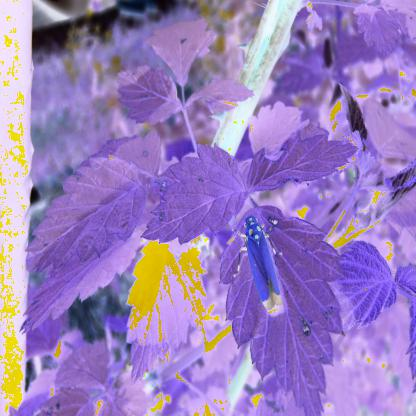raspberry leaf: (20, 153, 172, 329), (221, 202, 346, 416), (130, 231, 210, 380), (141, 137, 239, 256), (245, 121, 361, 200), (333, 236, 397, 331), (149, 11, 216, 94), (111, 60, 186, 126), (187, 71, 257, 115), (250, 103, 304, 151), (390, 258, 416, 297)
